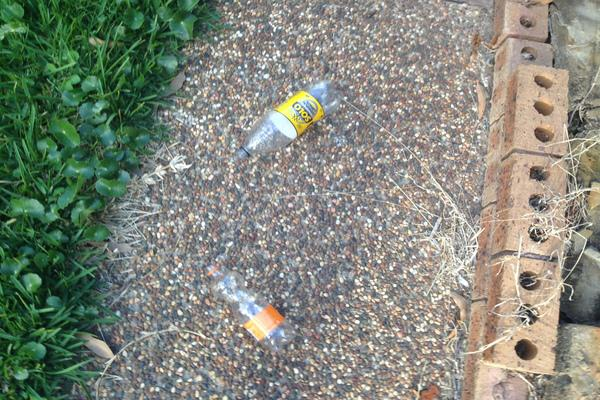Plastic Bottle: (237, 82, 343, 162), (205, 264, 295, 350)
